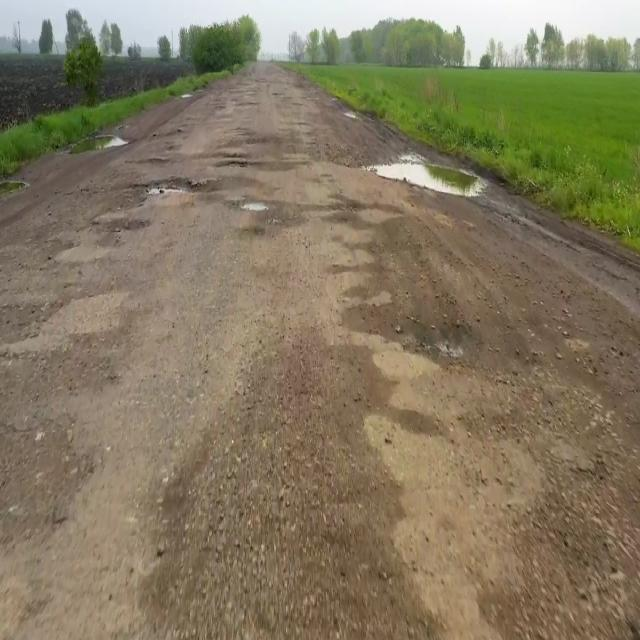road-pothole: (352, 164, 489, 203), (62, 129, 135, 158), (424, 314, 470, 355), (142, 177, 207, 201), (0, 174, 27, 197), (241, 201, 272, 211)
